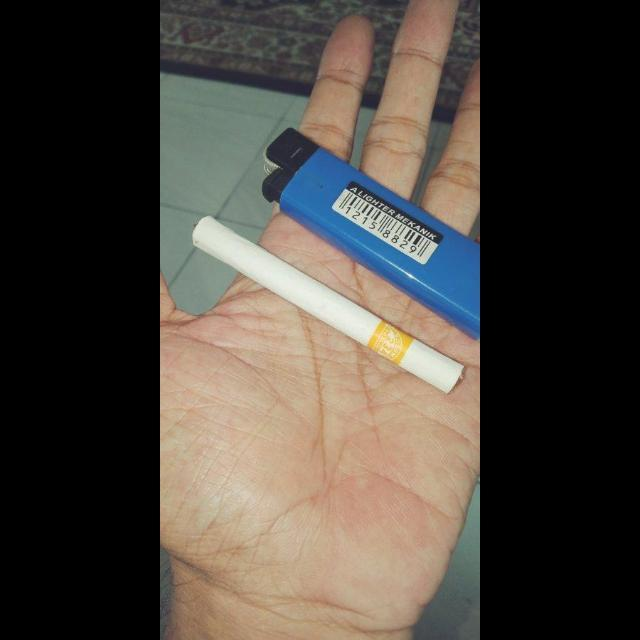rokok: (184, 212, 468, 394)
